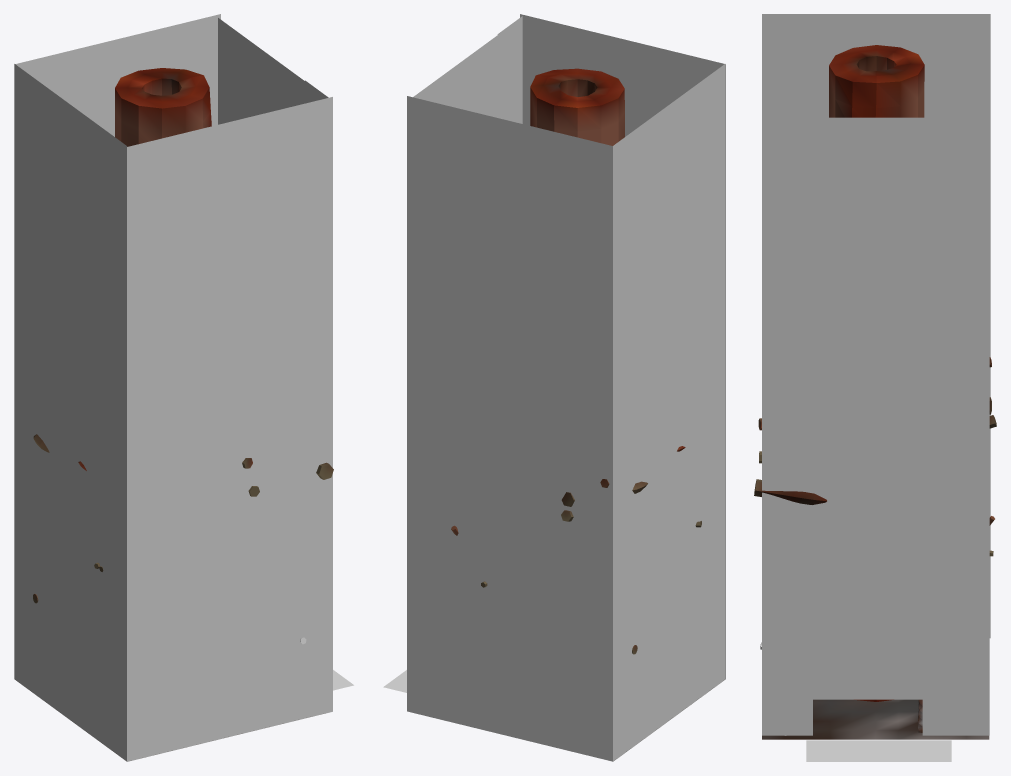
Rendered from Générateur(3).fbx.
3 views of the same model, side by side, from view 1: azimuth 30°, elevation 25°; view 2: azimuth 150°, elevation 25°; view 3: azimuth 270°, elevation 25° (orthographic).
Visible parts, largest first — view 1: Plan 5, Plan 2, Plan 4, Cylindre, Plan 7, Plan 8, Tube; view 2: Plan 4, Plan 2, Plan 5, Cylindre, Plan 8, Plan 6, Tube; view 3: Plan 8, Plan 7, Plan 6, Plan 2, Cylindre, Plan 1, Plan, Tube.
Boxes of the visible parts, x1,y1,x2,y2 form: Plan 5: (127, 97, 332, 761); Plan 2: (14, 64, 127, 761); Plan 4: (15, 14, 220, 136); Cylindre: (115, 68, 211, 146); Plan 7: (218, 18, 250, 124); Plan 8: (250, 42, 304, 116); Tube: (33, 434, 333, 603); Plan 4: (407, 96, 612, 761); Plan 2: (613, 64, 725, 761); Plan 5: (520, 14, 725, 678); Cylindre: (530, 68, 624, 145); Plan 8: (443, 35, 497, 117); Plan 6: (497, 16, 522, 123); Tube: (451, 446, 701, 654); Plan 8: (812, 117, 922, 699); Plan 7: (922, 117, 989, 735); Plan 6: (762, 116, 812, 735); Plan 2: (762, 14, 990, 638); Cylindre: (829, 45, 924, 701); Plan 1: (762, 699, 989, 739); Plan: (806, 740, 951, 761); Tube: (754, 357, 996, 556).
Bounding box in the file's own units: 17.58 × 41.1 × 14.39.
